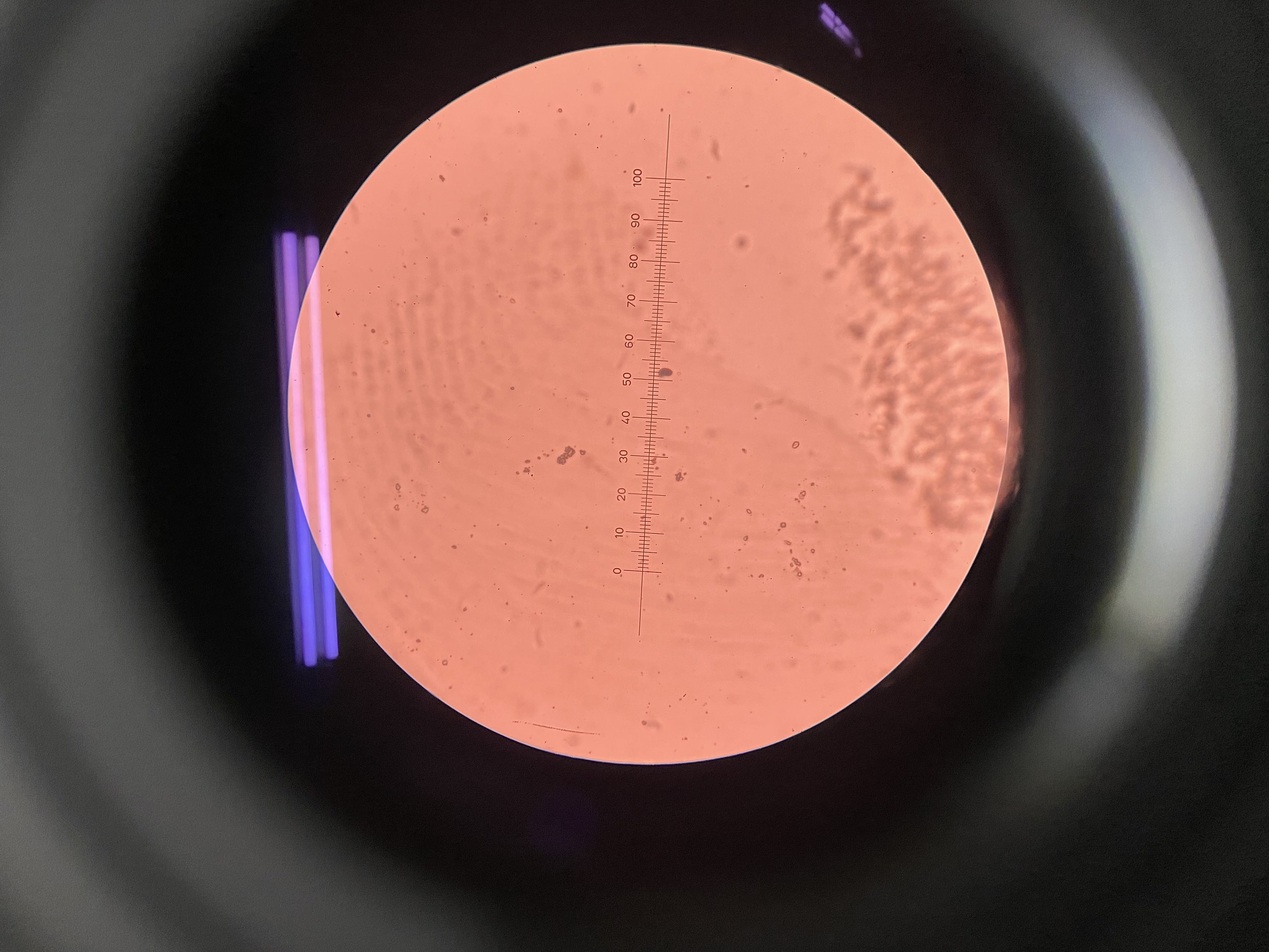not_microplastic: (830, 166, 1024, 523), (555, 443, 580, 465), (634, 224, 655, 250), (735, 231, 752, 253), (657, 363, 676, 379), (674, 470, 688, 485), (333, 306, 345, 321), (437, 174, 450, 184)
